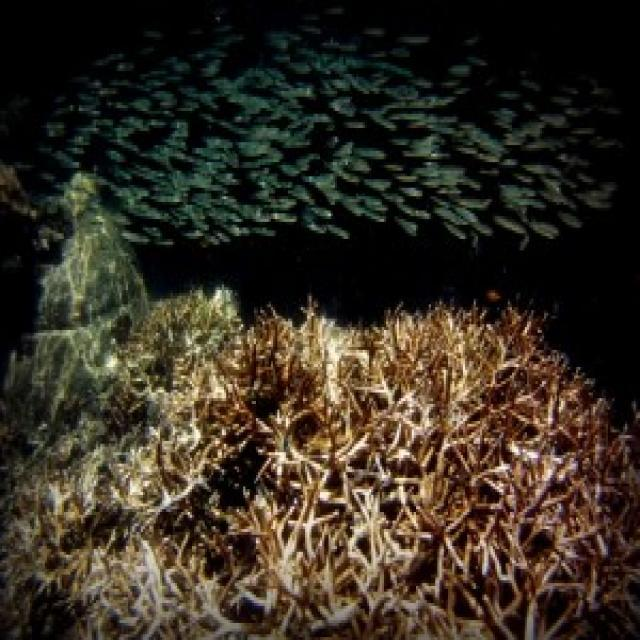Bleached: (35, 399, 640, 640), (284, 282, 572, 406)
